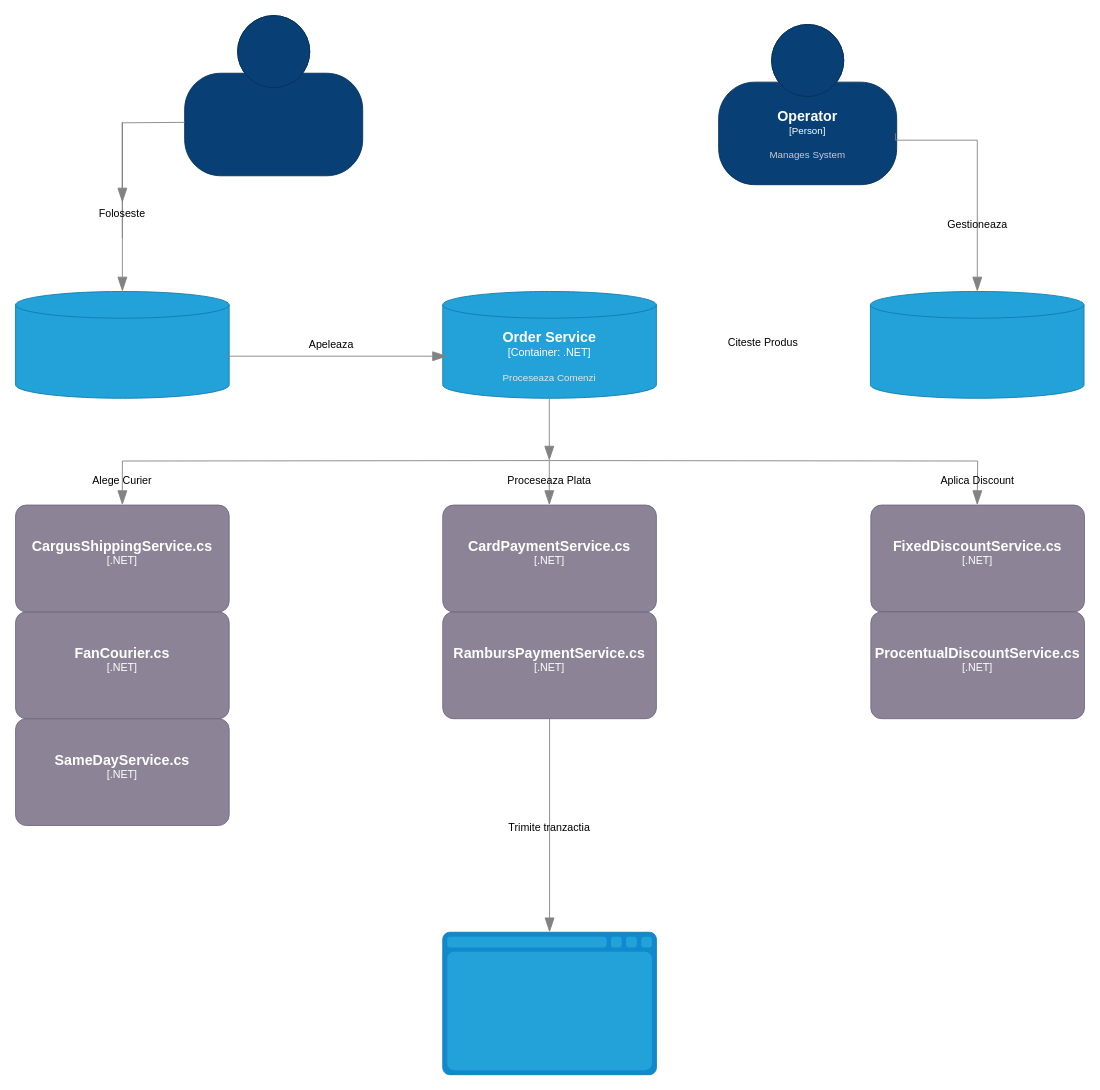
Some shapes in this 1100 by 1090 pixel diagram are drawn without their labels. Here are the shapes that lost their labels. From the top down, the centre of each, then its label:
pixel 273 95: Regular User [Person] User ordering.
pixel 122 344: Program.cs [Container: .NET] Entry Point
pixel 977 344: JsonProductRepo [Container: JSON] Stocheaza Lista de Produse
pixel 549 1003: PaymentSystem [: Software System] Sistem Extern
